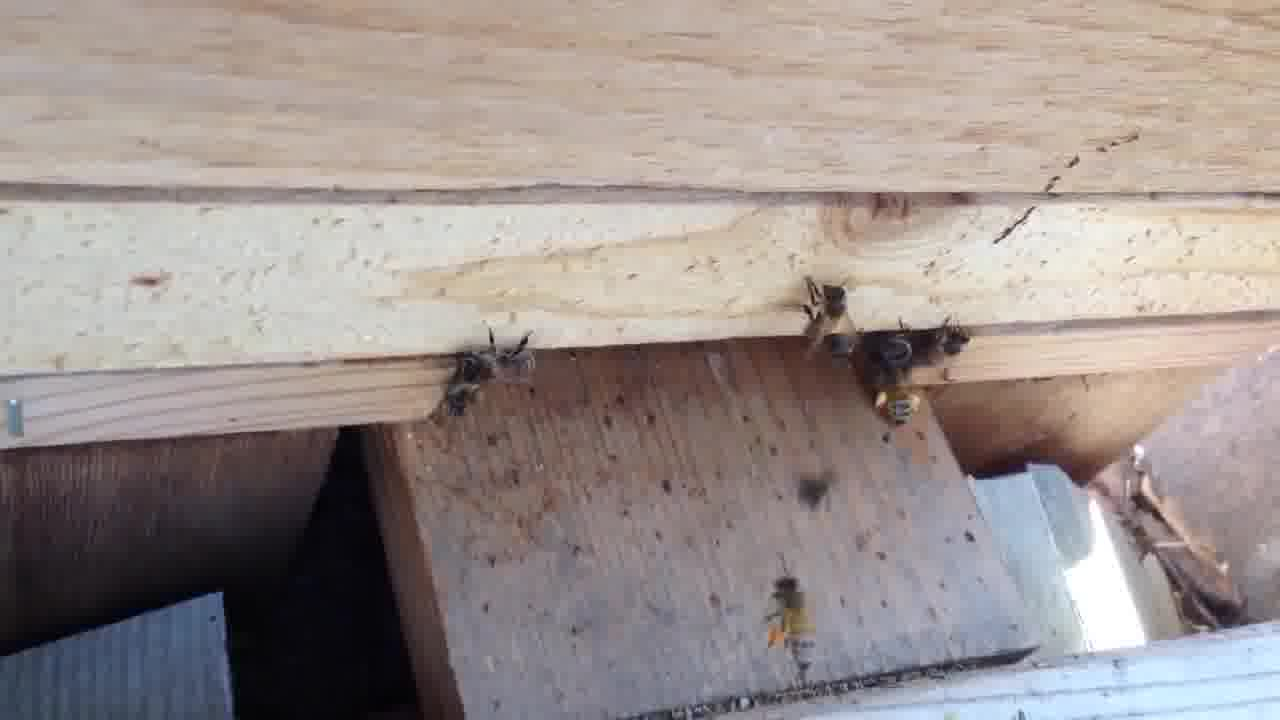pollen: (760, 567, 825, 674), (871, 367, 929, 438)
